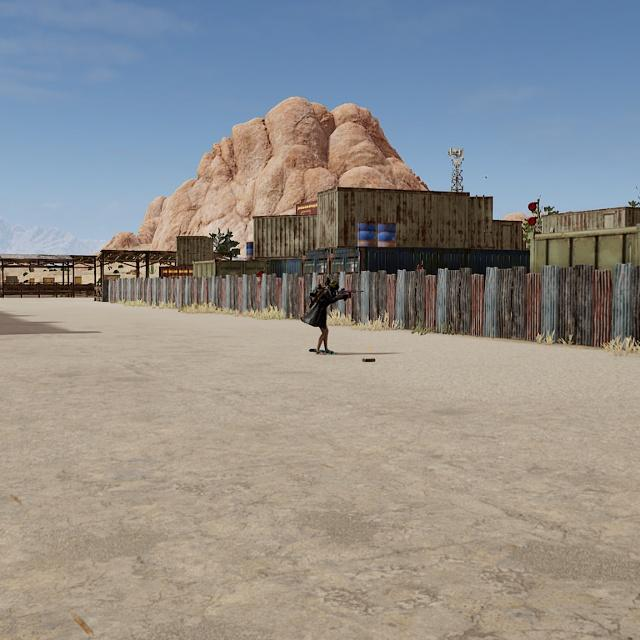head: (328, 279, 341, 293)
people: (311, 279, 344, 354)
